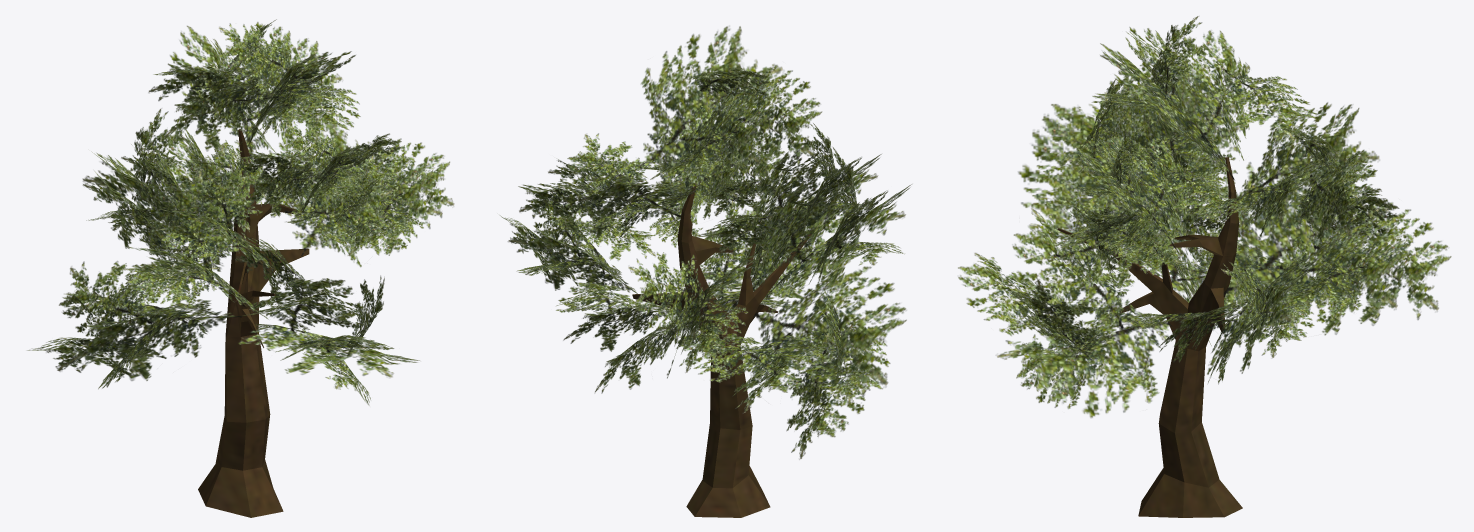
The model's file is Tree.glb.
3 views of the same model, side by side, from view 1: azimuth 30°, elevation 25°; view 2: azimuth 150°, elevation 25°; view 3: azimuth 270°, elevation 25° (orthographic). The views are drawn at different scales.
Visible parts, largest first — view 1: Plane.001; view 2: Plane.001; view 3: Plane.001.
Part boxes in pixels (bbox=[...]): Plane.001: bbox=[27, 19, 454, 517]; Plane.001: bbox=[500, 25, 911, 517]; Plane.001: bbox=[958, 16, 1451, 517].
Bounding box in the file's own units: 15.52 × 16.83 × 16.
Materials: 1 (1 with a texture image).
